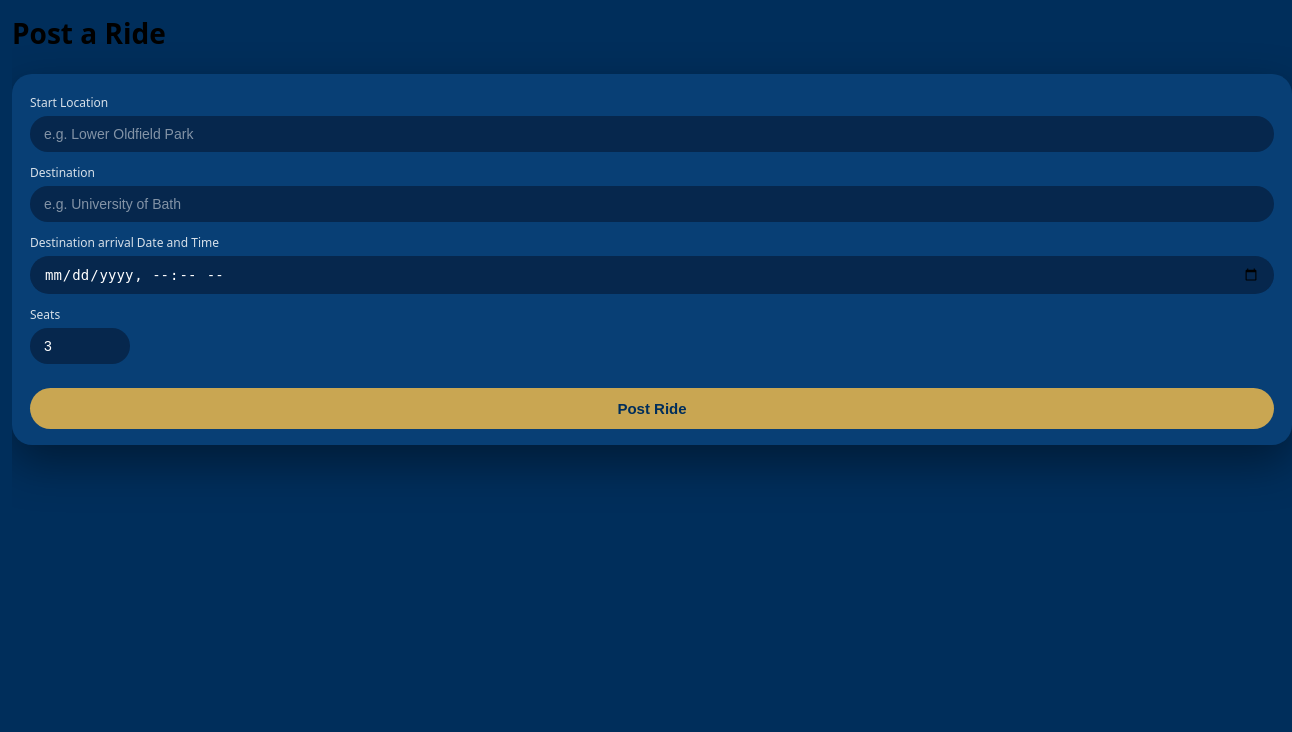
Test case: PostRidePage › posts a ride with geocoded coordinates and resets the form on success
The width and height of the screenshot is (1292, 732).
Type "Oldfield Park" into the field labelled "Start Location" at (652, 134), box [30, 116, 1274, 152]
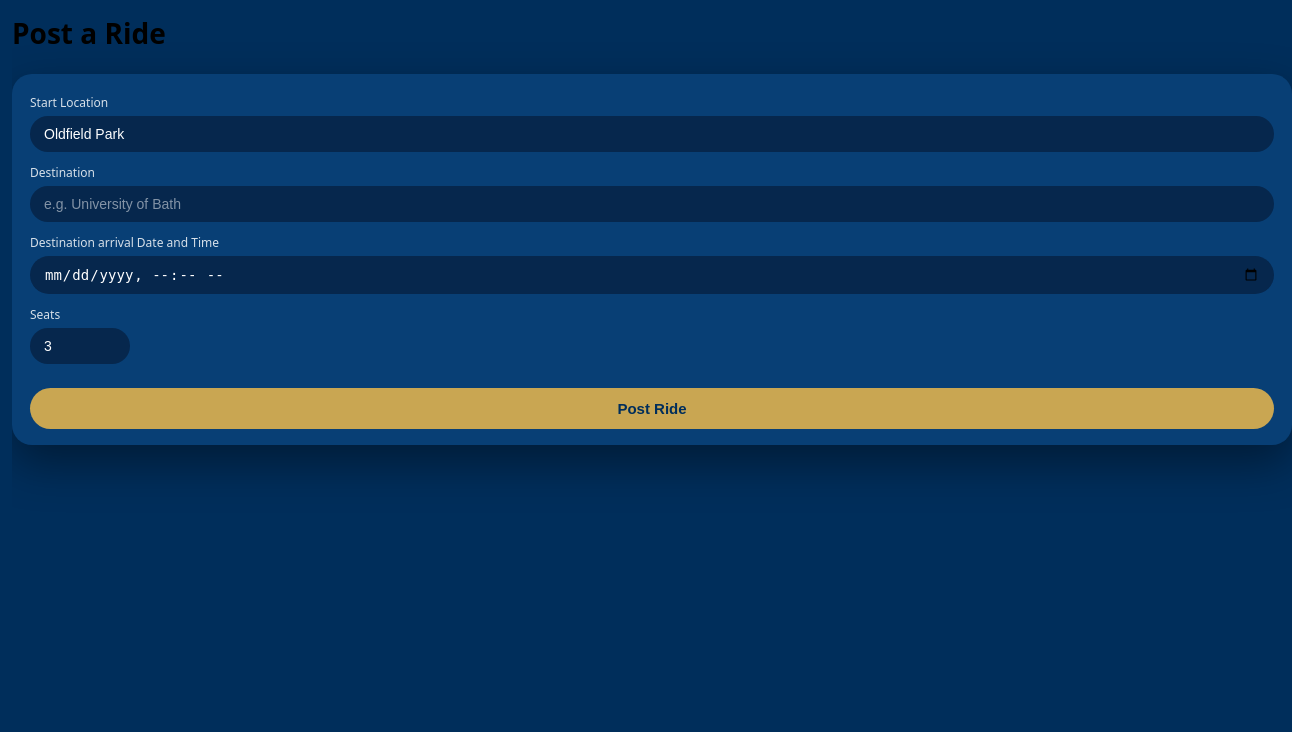
Type "University of Bath" into the field labelled "Destination" at (652, 204), box [30, 186, 1274, 222]
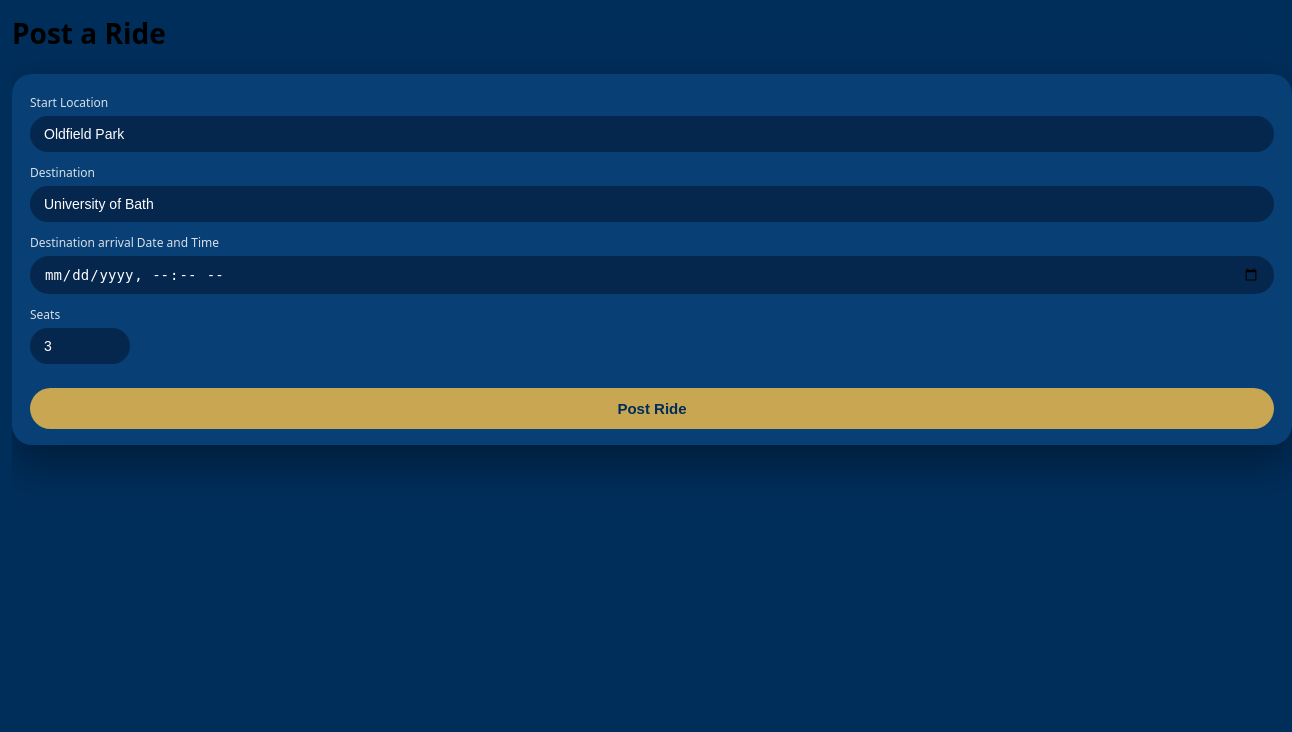
Type "2026-10-10T12:00" into the field labelled "Destination arrival Date and Time" at (652, 275), box [30, 256, 1274, 294]
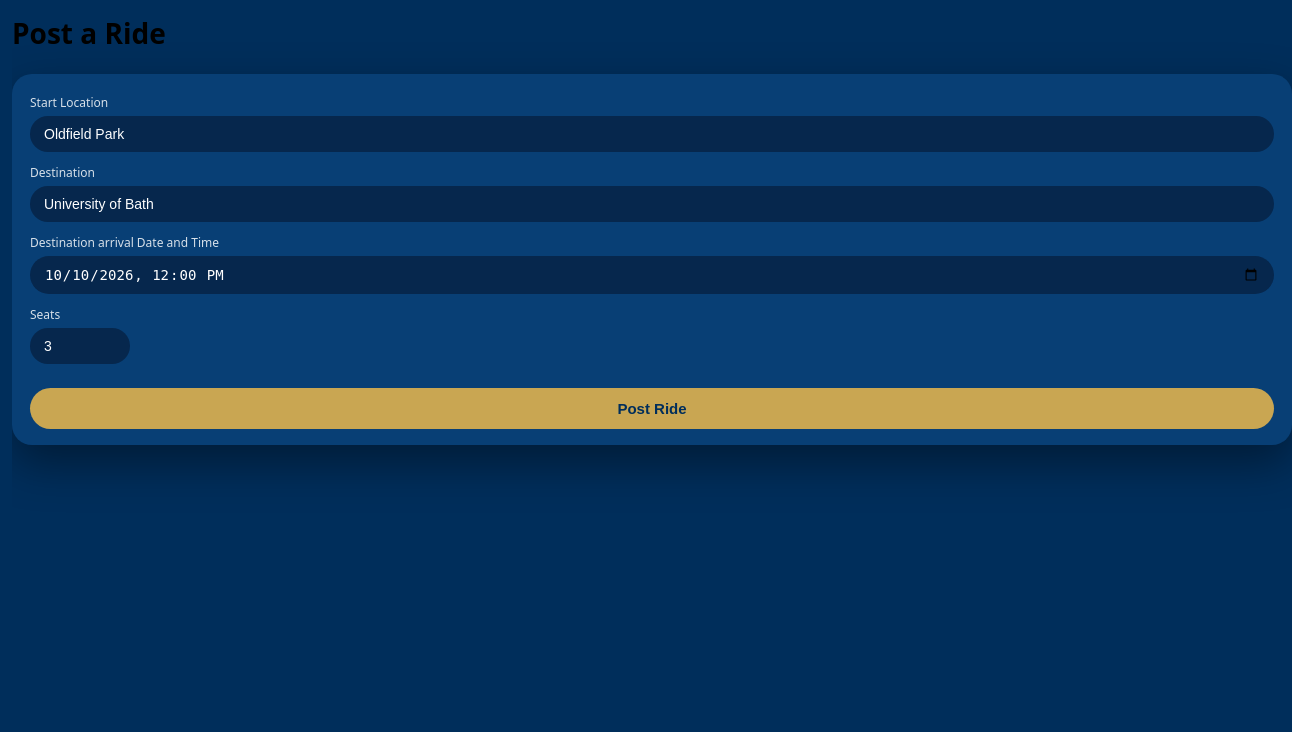
Replace the text in the number field labelled "Seats" with "4" at (80, 346), box [30, 328, 130, 364]
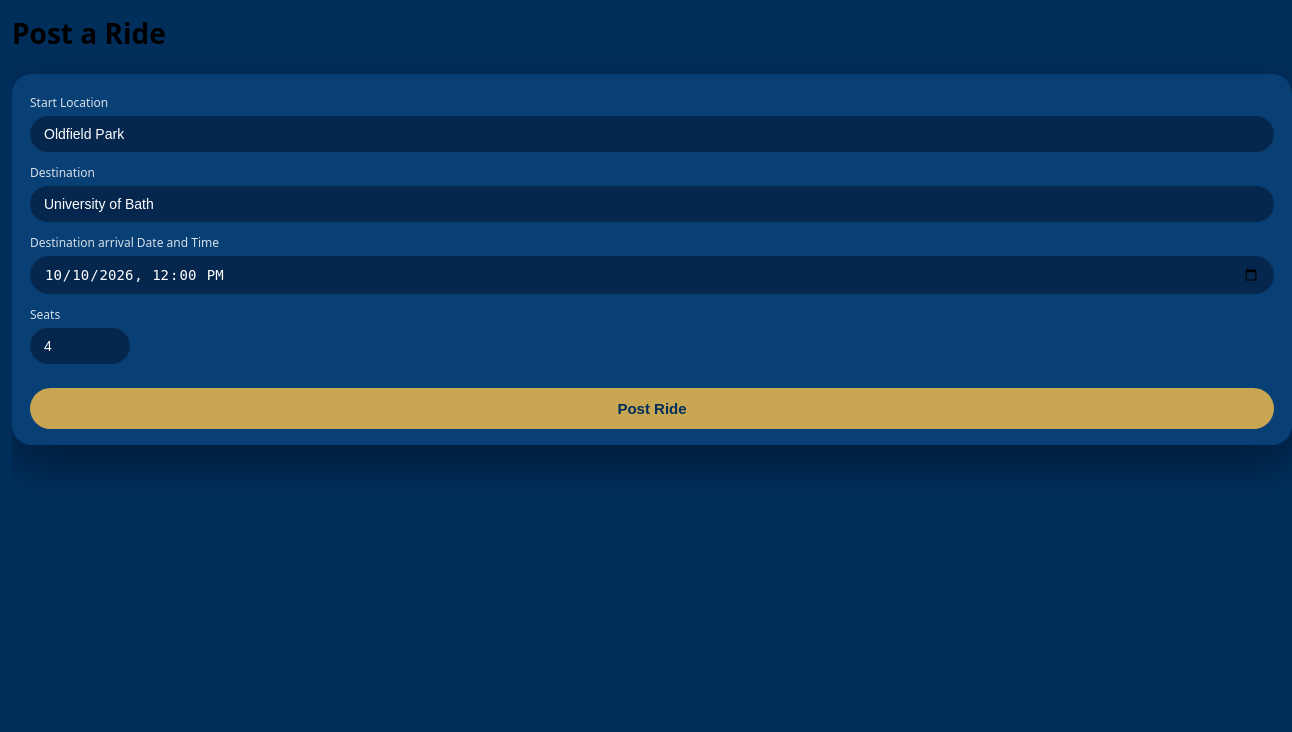
Click the button "Post Ride" at (652, 408), box [30, 388, 1274, 429]
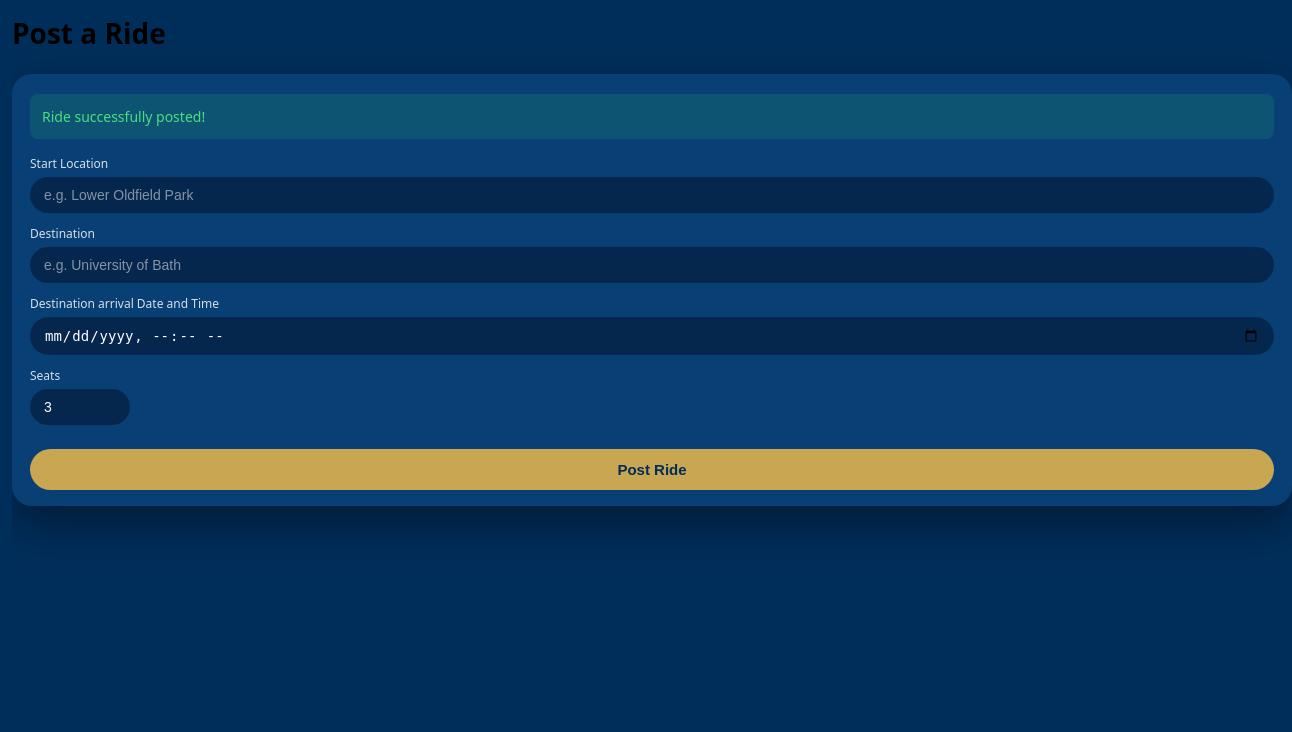
Now the text "Ride successfully posted!" is shown, box [30, 94, 1274, 139]
Now the field labelled "Start Location" is empty, box [30, 177, 1274, 213]
Now the field labelled "Destination" is empty, box [30, 247, 1274, 283]
